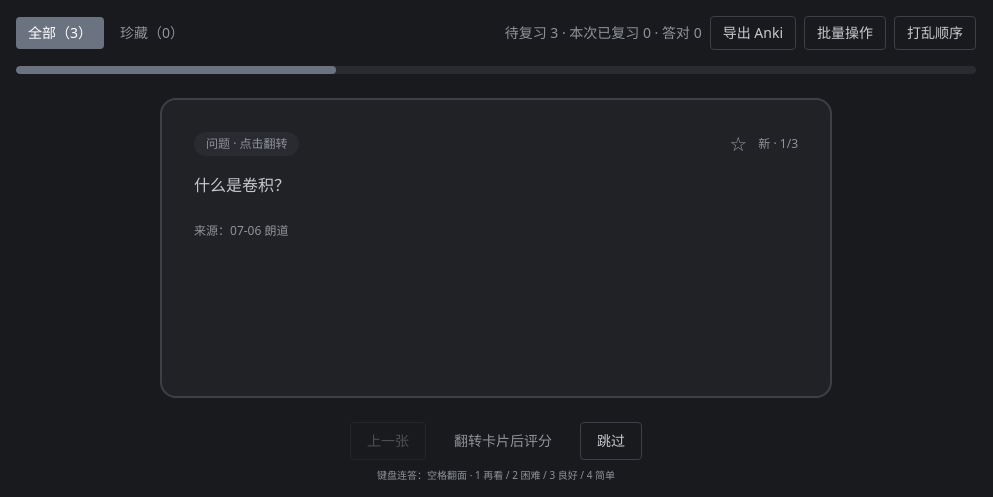
it: FlashcardReviewView — navigation and favorites › toggles favorites, persists them and filters the favorites tab
The width and height of the screenshot is (993, 497).
Check: the text "什么是卷积？" is shown, box [194, 174, 290, 196]
Click the button titled "加入珍藏" at (738, 144), box [730, 136, 746, 152]
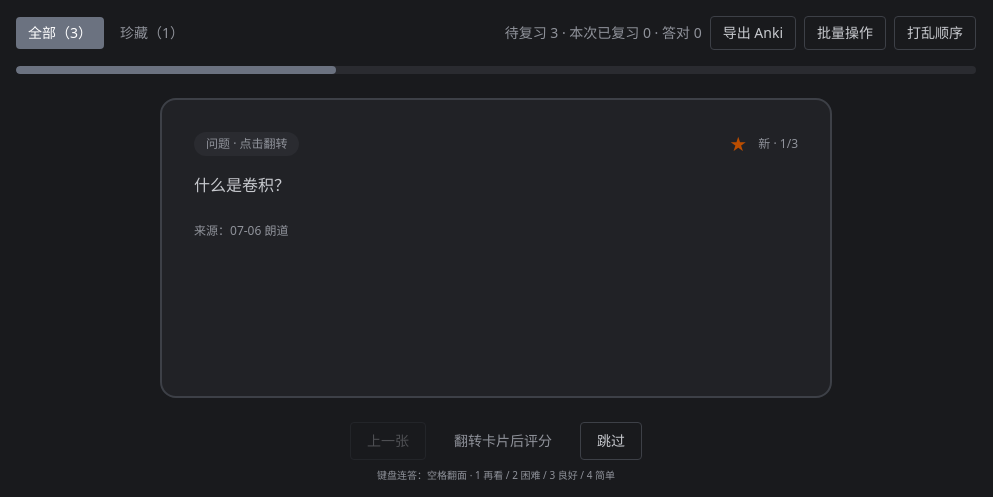
Check: the button titled "取消珍藏" is shown, box [730, 136, 746, 152]
Click the button "珍藏（1）" at (152, 33), box [108, 17, 196, 49]
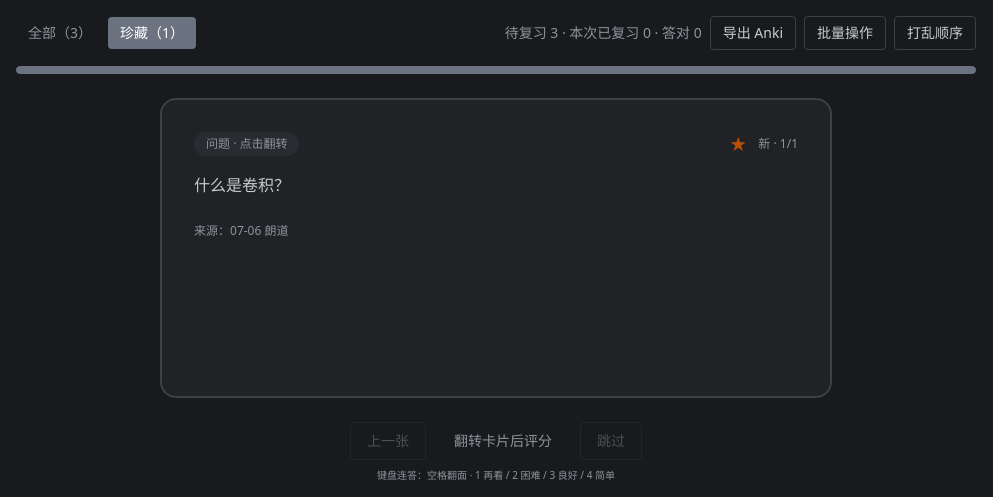
Check: the text "什么是卷积？" is shown, box [194, 174, 290, 196]
Check: the text "新 · 1/1" is shown, box [758, 136, 798, 152]
// Unfavoriting from the filtered tab empties it.
Click the button titled "取消珍藏" at (738, 144), box [730, 136, 746, 152]
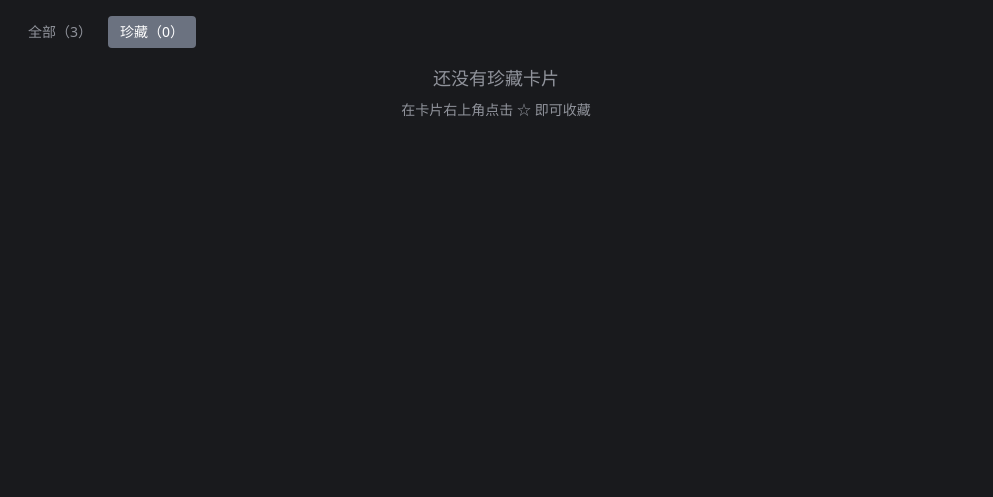
Check: the text "还没有珍藏卡片" is shown, box [433, 66, 559, 90]
